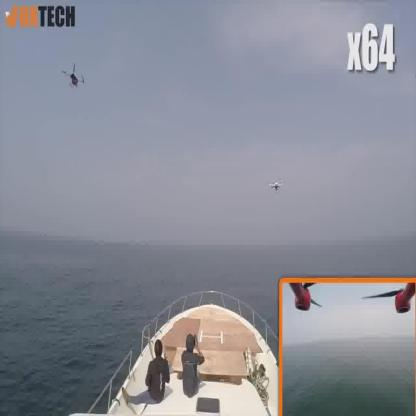drone: (58, 56, 87, 91), (263, 168, 288, 198)
